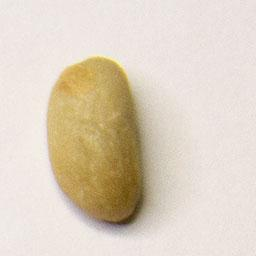longberry: (43, 54, 148, 228)
